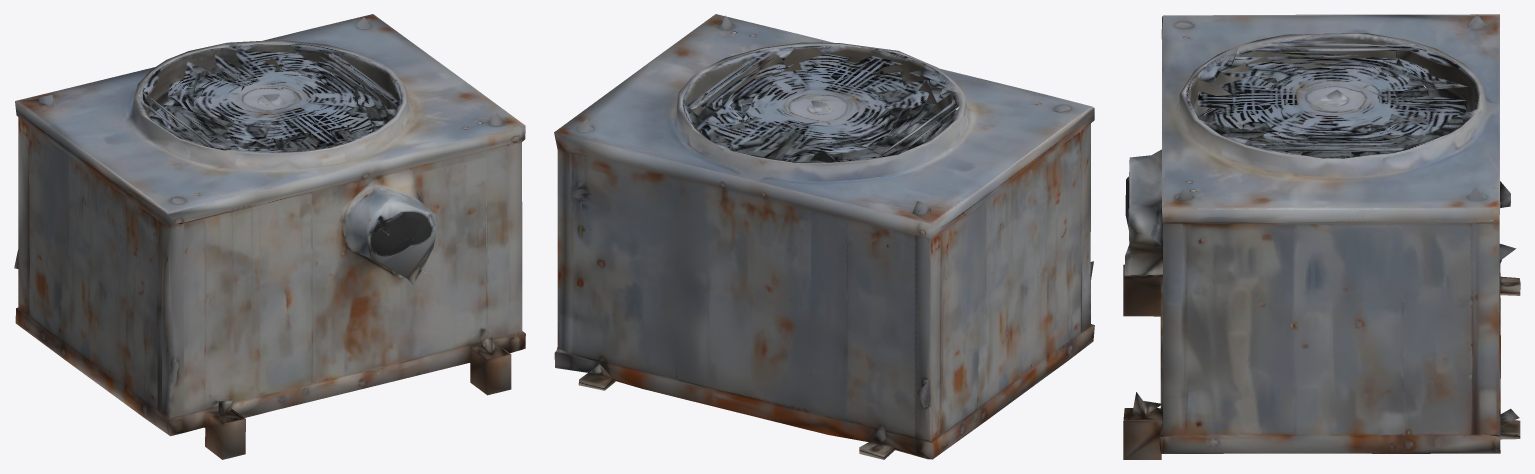
The model's file is ac_unit.glb.
The picture shows the model from 3 angles, left to right: view 1: azimuth 30°, elevation 25°; view 2: azimuth 150°, elevation 25°; view 3: azimuth 270°, elevation 25°; orthographic projection. The views are drawn at different scales.
Parts seen in each view (by area): view 1: tripo_node_50e012f9-0dba-4cde-a04b-38b1e4d5ec6d; view 2: tripo_node_50e012f9-0dba-4cde-a04b-38b1e4d5ec6d; view 3: tripo_node_50e012f9-0dba-4cde-a04b-38b1e4d5ec6d.
Boxes of the visible parts, <box> form: tripo_node_50e012f9-0dba-4cde-a04b-38b1e4d5ec6d: <box>14,14,525,459</box>; tripo_node_50e012f9-0dba-4cde-a04b-38b1e4d5ec6d: <box>554,14,1094,459</box>; tripo_node_50e012f9-0dba-4cde-a04b-38b1e4d5ec6d: <box>1123,14,1520,459</box>.
Bounding box in the file's own units: 0.9825 × 0.6827 × 0.852.
Materials: 1 (1 with a texture image).
